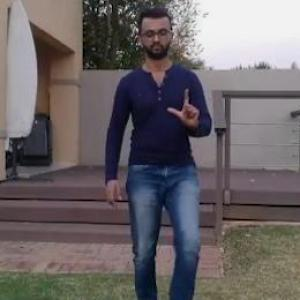land_hand: (166, 75, 209, 130)
